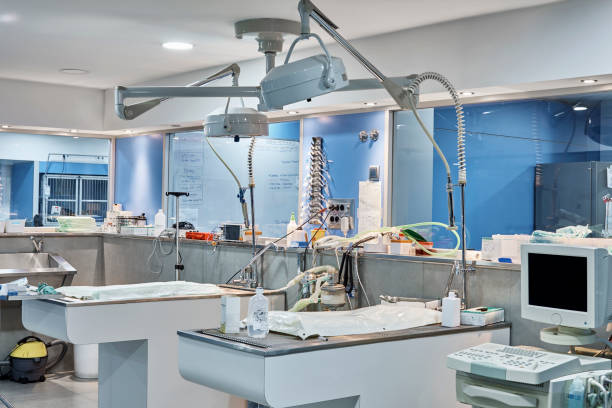computer: (520, 237, 601, 330)
exam_table: (188, 293, 509, 407), (31, 279, 237, 405)
faucet: (28, 236, 49, 251)
iv_pole: (164, 186, 190, 281)
keyboard: (450, 340, 581, 386)
sink: (1, 246, 72, 305)
surgical_light: (262, 58, 346, 113), (203, 108, 272, 140)
